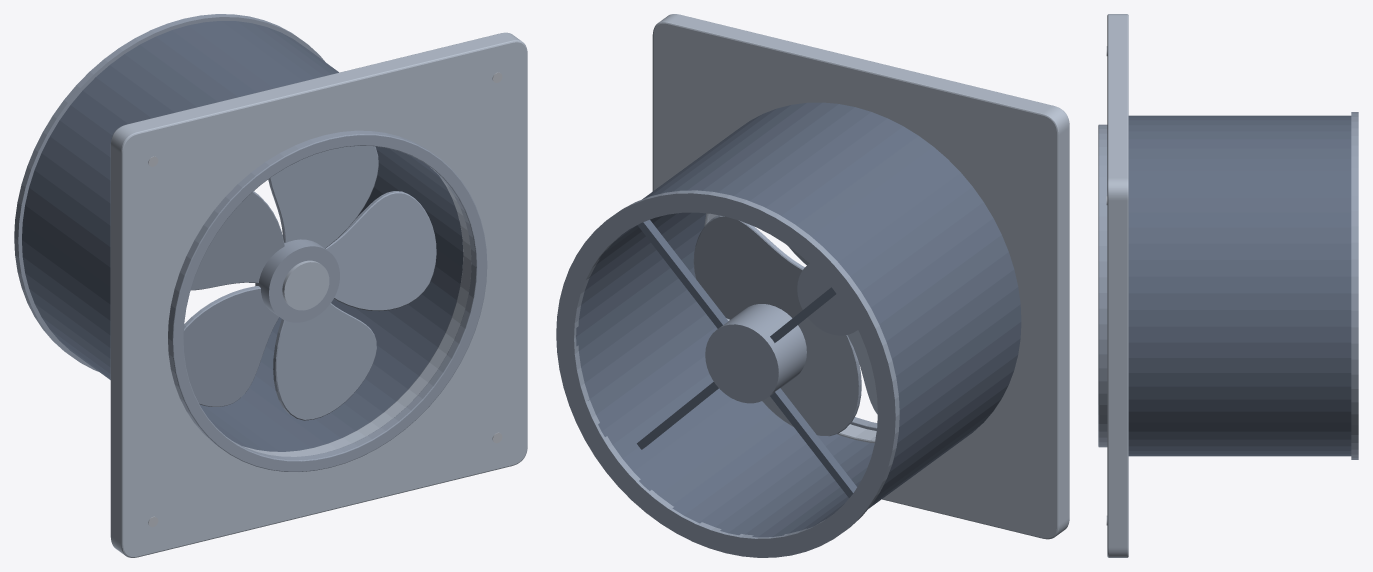
The model's file is 排气扇-lite.glb.
3 views of the same model, side by side, from view 1: azimuth 30°, elevation 25°; view 2: azimuth 150°, elevation 25°; view 3: azimuth 270°, elevation 25° (orthographic). The views are drawn at different scales.
Parts seen in each view (by area): view 1: exhaust-fan-exhaust-fan-shell, exhaust-fan-exhaust-fan-bore, extractor-blade-rotor-exhaust-fan-blade, exhaust-fan-exhaust-fan-edge, extractor-blade-rotor-exhaust-fan-edge, extractor-blade-rotor-exhaust-fan-shell; view 2: exhaust-fan-exhaust-fan-bore, exhaust-fan-exhaust-fan-shell, exhaust-fan-exhaust-fan-edge, extractor-blade-rotor-exhaust-fan-blade, extractor-blade-rotor-exhaust-fan-edge; view 3: exhaust-fan-exhaust-fan-bore, exhaust-fan-exhaust-fan-shell, exhaust-fan-exhaust-fan-edge.
Part boxes in pixels (x1,y1,x2,y2): exhaust-fan-exhaust-fan-shell: (110, 32, 527, 557); exhaust-fan-exhaust-fan-bore: (22, 21, 463, 451); extractor-blade-rotor-exhaust-fan-blade: (183, 146, 436, 420); exhaust-fan-exhaust-fan-edge: (14, 14, 487, 471); extractor-blade-rotor-exhaust-fan-edge: (255, 239, 339, 322); extractor-blade-rotor-exhaust-fan-shell: (282, 260, 329, 310); exhaust-fan-exhaust-fan-bore: (576, 102, 1021, 537); exhaust-fan-exhaust-fan-shell: (652, 14, 1069, 539); exhaust-fan-exhaust-fan-edge: (556, 190, 899, 557); extractor-blade-rotor-exhaust-fan-blade: (693, 215, 877, 436); extractor-blade-rotor-exhaust-fan-edge: (797, 263, 857, 335); exhaust-fan-exhaust-fan-bore: (1128, 115, 1351, 456); exhaust-fan-exhaust-fan-shell: (1107, 14, 1128, 557); exhaust-fan-exhaust-fan-edge: (1098, 112, 1358, 459).
Size of the model in its own units: 0.3424 by 0.3424 by 0.2136.
